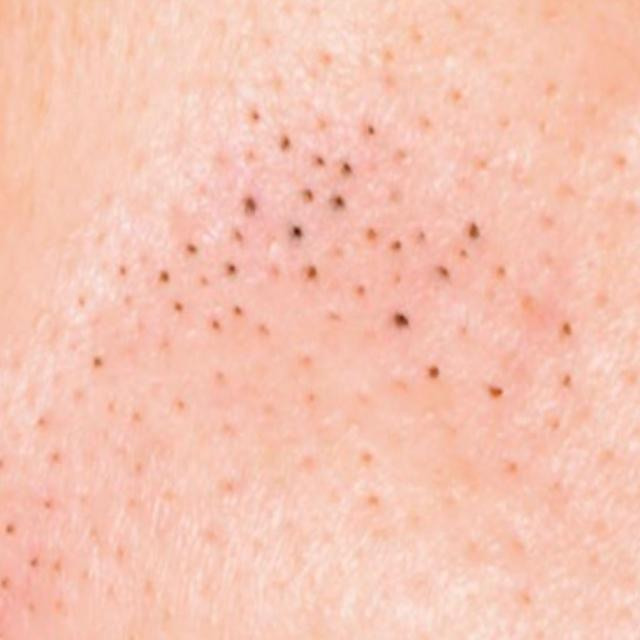blackhead: (97, 79, 588, 463)
